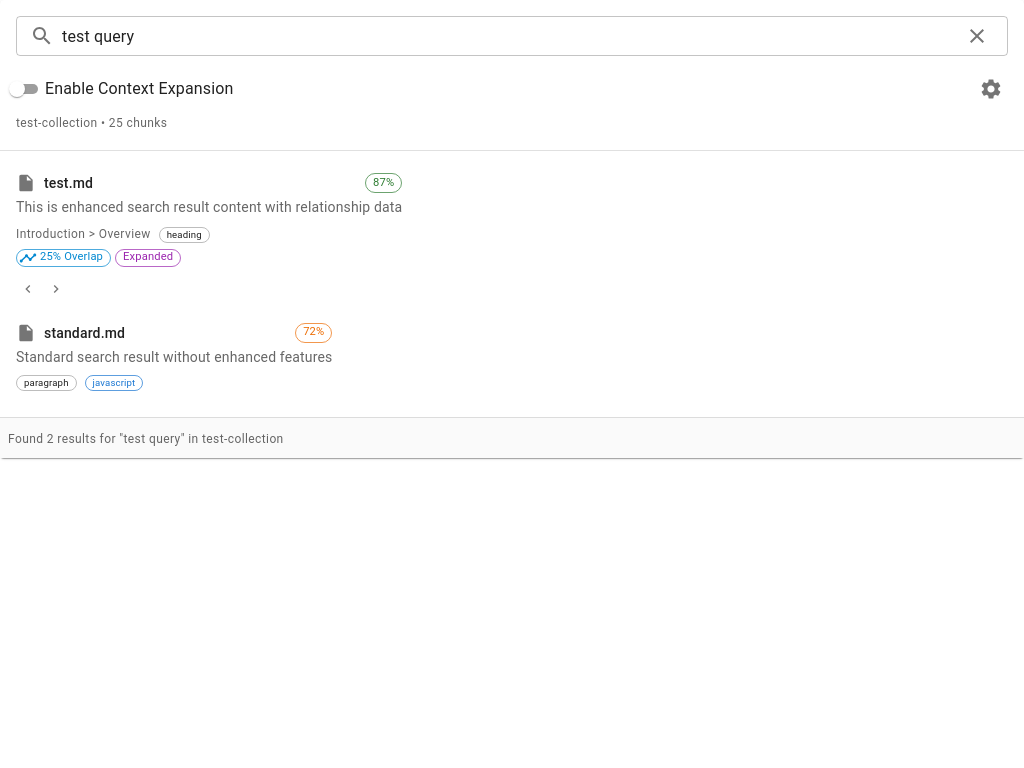
EnhancedVectorSearchPanel › Error Handling › disables enhanced features when context expansion toggle fails
The width and height of the screenshot is (1024, 768).
Step 1. Click the switch labelled "Enable Context Expansion" → (119, 89), box [5,77,234,101]
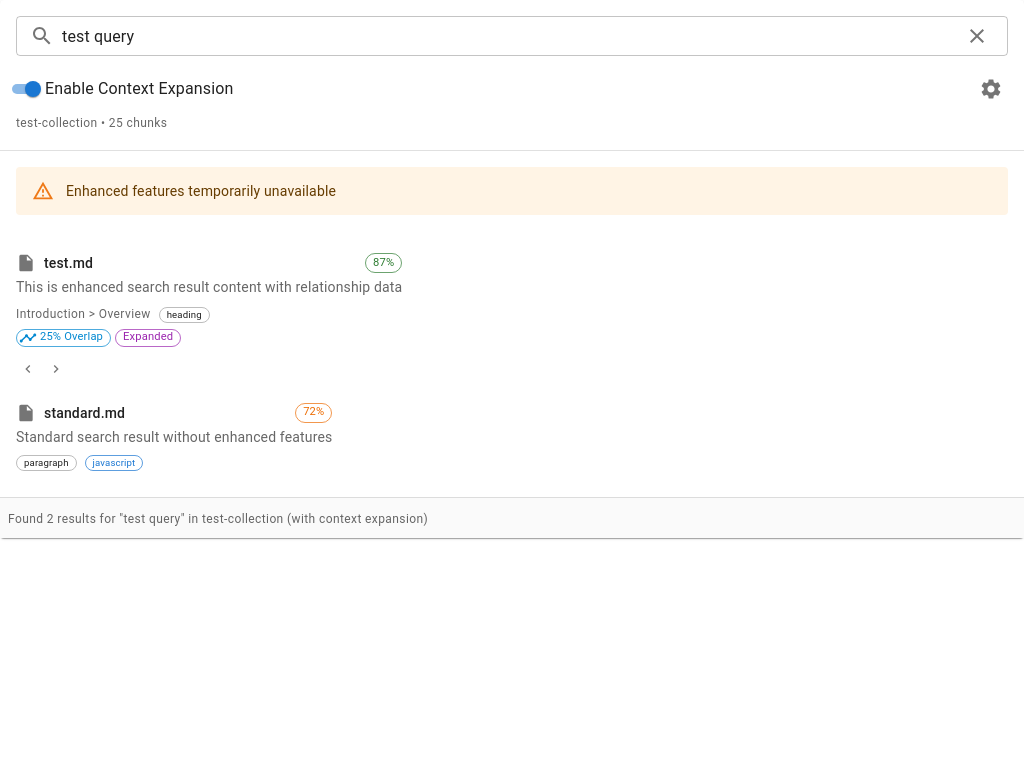
expect the text "Enhanced features temporarily unavailable" is shown: met, box [66,183,336,199]
